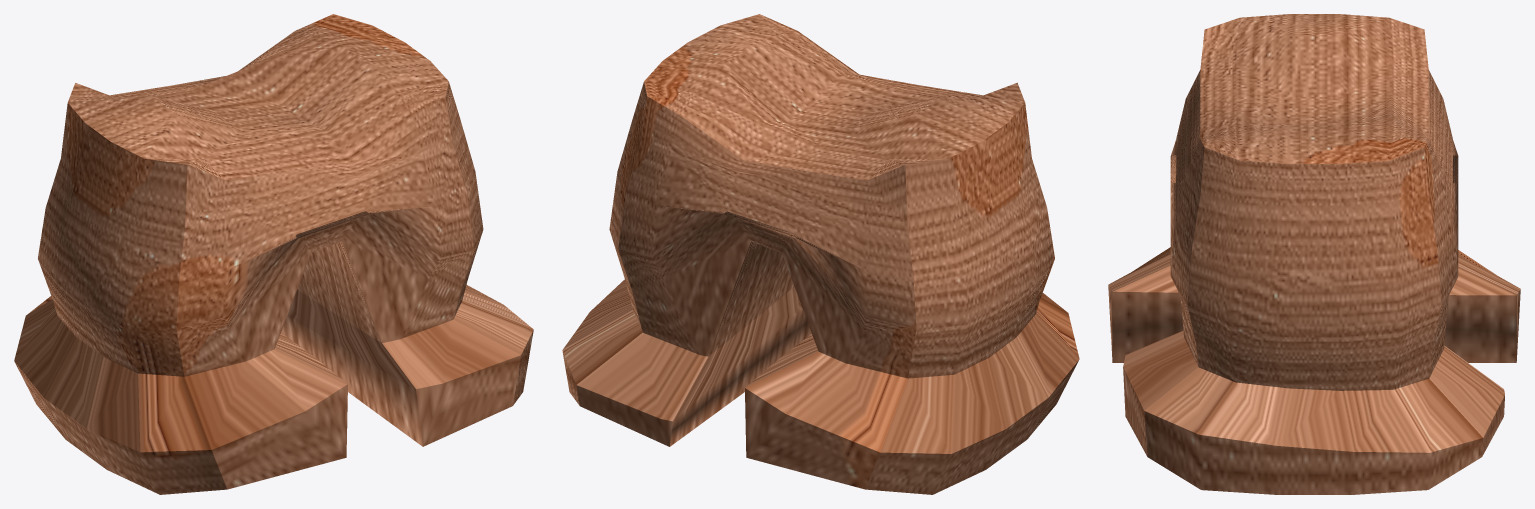
The model's file is sima02.obj.
3 views of the same model, side by side, from view 1: azimuth 30°, elevation 25°; view 2: azimuth 150°, elevation 25°; view 3: azimuth 270°, elevation 25° (orthographic). The views are drawn at different scales.
Visible parts, largest first — view 1: pCube1; view 2: pCube1; view 3: pCube1.
Boxes of the visible parts, x1=… form: pCube1: x1=14, y1=14, x2=533, y2=494; pCube1: x1=562, y1=14, x2=1079, y2=494; pCube1: x1=1108, y1=14, x2=1520, y2=494.
Bounding box in the file's own units: 2.27 × 1.72 × 1.98.
Materials: 1 (1 with a texture image).
